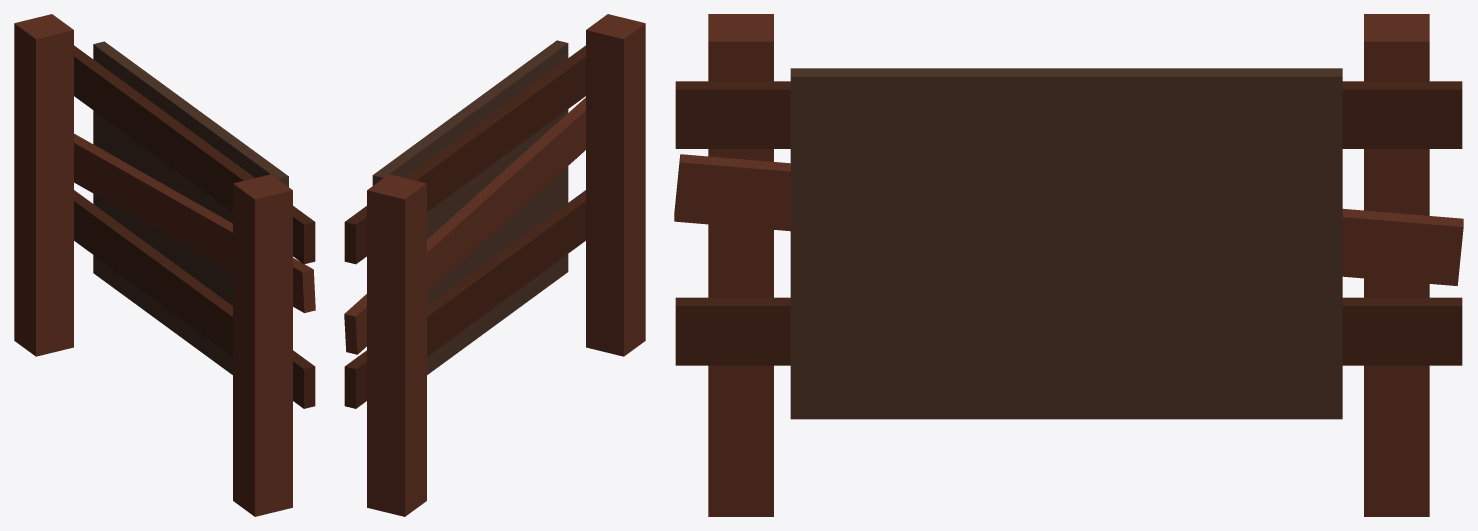
The model's file is SM_Barriers_22.fbx.
3 views of the same model, side by side, from view 1: azimuth 30°, elevation 25°; view 2: azimuth 150°, elevation 25°; view 3: azimuth 270°, elevation 25° (orthographic). The views are drawn at different scales.
Visible parts, largest first — view 1: SM_Barriers_22; view 2: SM_Barriers_22; view 3: SM_Barriers_22.
Part boxes in pixels (left/top/right/bottom): SM_Barriers_22: left=14, top=14, right=315, bottom=516; SM_Barriers_22: left=344, top=14, right=645, bottom=516; SM_Barriers_22: left=674, top=14, right=1463, bottom=516.
Bounding box in the file's own units: 16.19 × 80 × 120.
